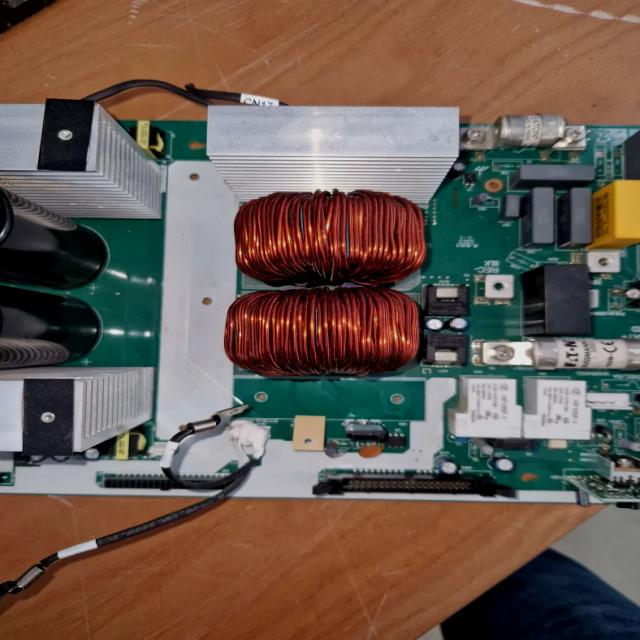A: (233, 188, 427, 288), (225, 288, 421, 378)
B: (482, 340, 640, 370), (462, 114, 586, 150)
